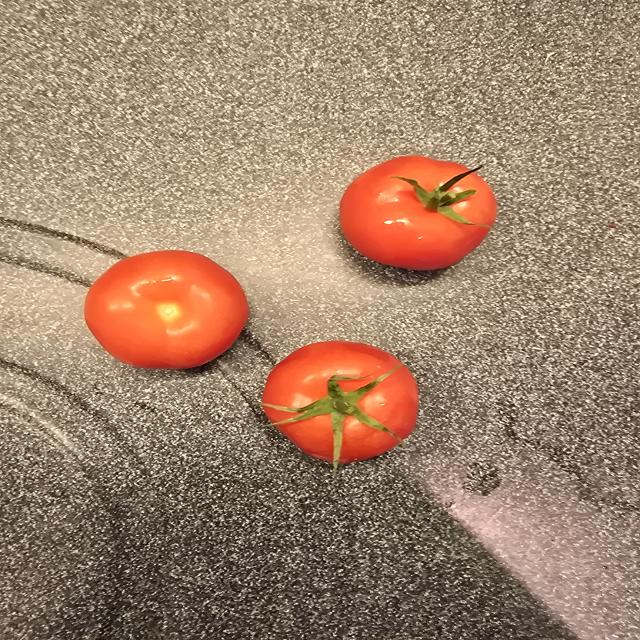Tomato: (262, 341, 418, 465), (84, 251, 249, 368), (339, 156, 497, 270)
